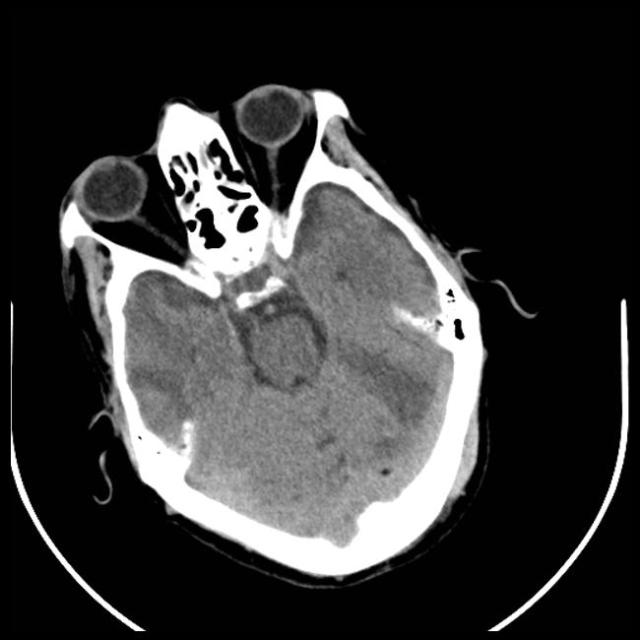lesion: (54, 80, 504, 585)
